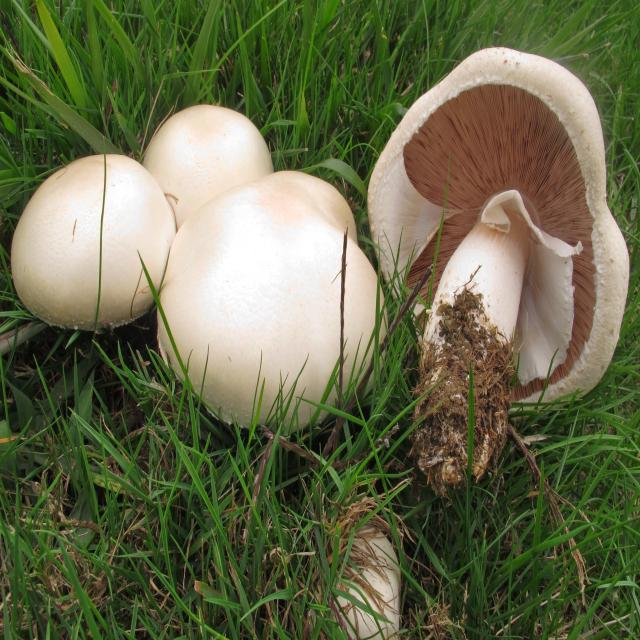field-mushroom: (367, 48, 631, 498), (157, 171, 378, 430), (9, 155, 181, 334)
